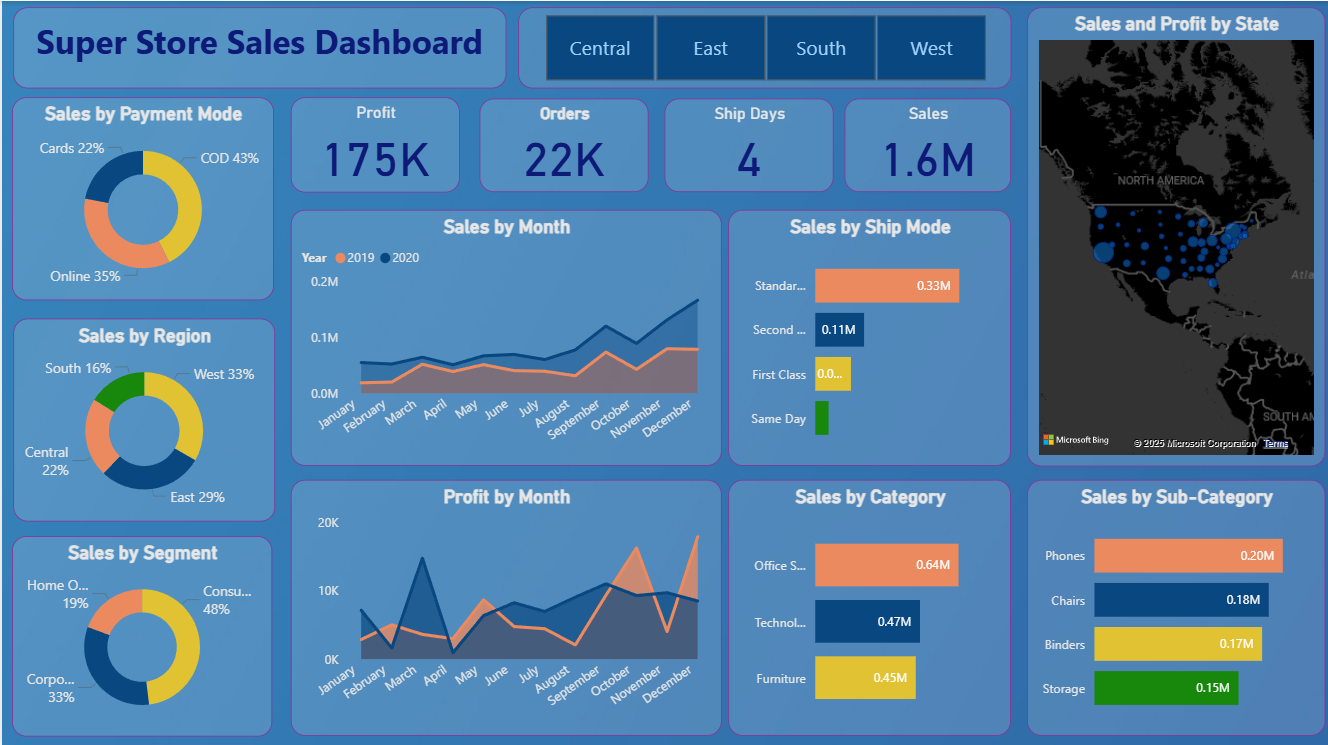

What the dashboard file says about the page in this screenshot:
{"tool":"powerbi","page":{"name":"Page 1","canvas":[1280,720],"ordinal":0},"visuals":[{"type":"clusteredBarChart","title":"Sales by Category","fields":{"Category":["Sheet1.Category"],"Y":["Sum(Sheet1.Sales)"]},"box":[701.2,462.4,273.1,247],"z":0},{"type":"clusteredColumnChart","title":"Sales by Sub-Category","fields":{"Category":["Sheet1.Sub-Category"],"Y":["Sum(Sheet1.Sales)"]},"box":[989.4,462.4,277.2,247],"z":1000},{"type":"clusteredBarChart","title":"Sales by Ship Mode","fields":{"Category":["Sheet1.Ship Mode"],"Y":["Sum(Sheet1.Sales)"]},"box":[701.2,201.7,273.1,247],"z":2000},{"type":"areaChart","title":"Sales by Month","fields":{"Series":["Sheet1.Order Date.Variation.Date Hierarchy.Year"],"Category":["Sheet1.Order Date.Variation.Date Hierarchy.Month","Sheet1.Order Date.Variation.Date Hierarchy.Day"],"Y":["Sum(Sheet1.Sales)"]},"box":[278.6,201.7,415.8,247],"z":3000},{"type":"areaChart","title":"Profit by Month ","fields":{"Category":["Sheet1.Order Date.Variation.Date Hierarchy.Month","Sheet1.Order Date.Variation.Date Hierarchy.Day"],"Y":["Sum(Sheet1.Profit)"],"Series":["Sheet1.Order Date.Variation.Date Hierarchy.Year"]},"box":[278.6,462.4,415.8,247],"z":4000},{"type":"map","title":"Sales and Profit by State","fields":{"Category":["Sheet1.State"],"Size":["Sum(Sheet1.Sales)"]},"box":[989.4,5.5,277.2,443.2],"z":5000},{"type":"donutChart","title":"Sales by Segment","fields":{"Category":["Sheet1.Segment"],"Y":["Sum(Sheet1.Sales)"]},"box":[9.6,516,251.1,193.5],"z":6000},{"type":"donutChart","title":"Sales by Payment Mode","fields":{"Category":["Sheet1.Payment Mode"],"Y":["Sum(Sheet1.Sales)"]},"box":[9.6,93.3,252.5,196.2],"z":7000},{"type":"donutChart","title":"Sales by Region","fields":{"Category":["Sheet1.Region"],"Y":["Sum(Sheet1.Sales)"]},"box":[11,306,252.5,196.2],"z":8000},{"type":"slicer","fields":{"Values":["Sheet1.Region"]},"box":[498.1,5.5,476.2,78.2],"z":9000},{"type":"textbox","box":[11,5.5,476.2,78.2],"z":10000},{"type":"card","title":"Sales","fields":{"Values":["Sum(Sheet1.Sales)"]},"box":[813.7,94.7,160.5,90.6],"z":11000},{"type":"card","title":"Orders","fields":{"Values":["Sum(Sheet1.Quantity)"]},"box":[461.1,94.7,163.3,90.6],"z":12000},{"type":"card","title":"Profit","fields":{"Values":["Sum(Sheet1.Profit)"]},"box":[278.6,93.3,163.3,91.9],"z":13000},{"type":"card","title":"Ship Days","fields":{"Values":["Avg(Sheet1.AvgDelivery)"]},"box":[639.5,94.7,163.3,90.6],"z":14000}]}

Visuals, with their boxes in screenshot pixels (x1, y1, x2, y2), scaled from the page's 1280x720 canvas onto the 1328x745 screenshot:
"Sales by Category" clusteredBarChart: 727:478:1011:734
"Sales by Sub-Category" clusteredColumnChart: 1027:478:1314:734
"Sales by Ship Mode" clusteredBarChart: 727:209:1011:464
"Sales by Month" areaChart: 289:209:720:464
"Profit by Month " areaChart: 289:478:720:734
"Sales and Profit by State" map: 1027:6:1314:464
"Sales by Segment" donutChart: 10:534:270:734
"Sales by Payment Mode" donutChart: 10:97:272:300
"Sales by Region" donutChart: 11:317:273:520
slicer - Sheet1.Region: 517:6:1011:87
textbox: 11:6:505:87
"Sales" card: 844:98:1011:192
"Orders" card: 478:98:648:192
"Profit" card: 289:97:458:192
"Ship Days" card: 663:98:833:192
